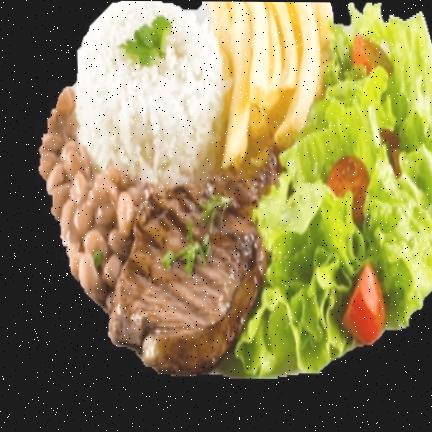beans: (40, 90, 150, 316)
meat: (108, 152, 283, 376)
potato: (207, 2, 332, 171)
rice: (74, 1, 224, 183)
salad: (217, 3, 432, 375)
tomato: (342, 264, 386, 344), (327, 158, 371, 226), (378, 125, 399, 182), (354, 39, 387, 69)
